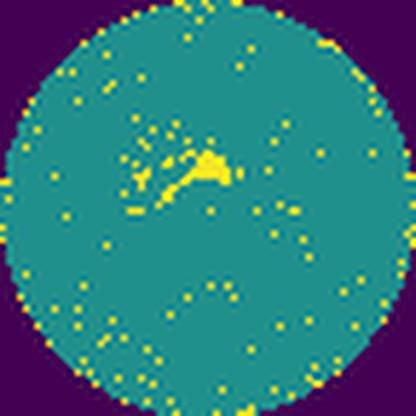Loc: (154, 148, 231, 214)
